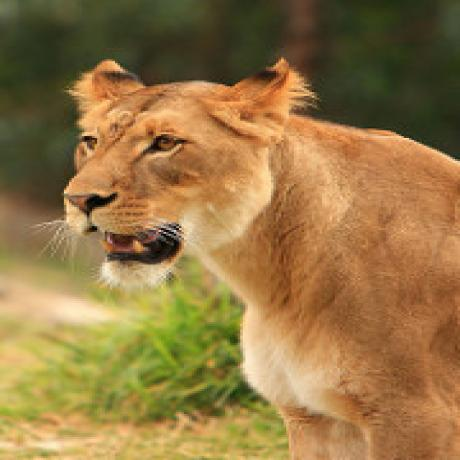Lion: (66, 52, 460, 460)
